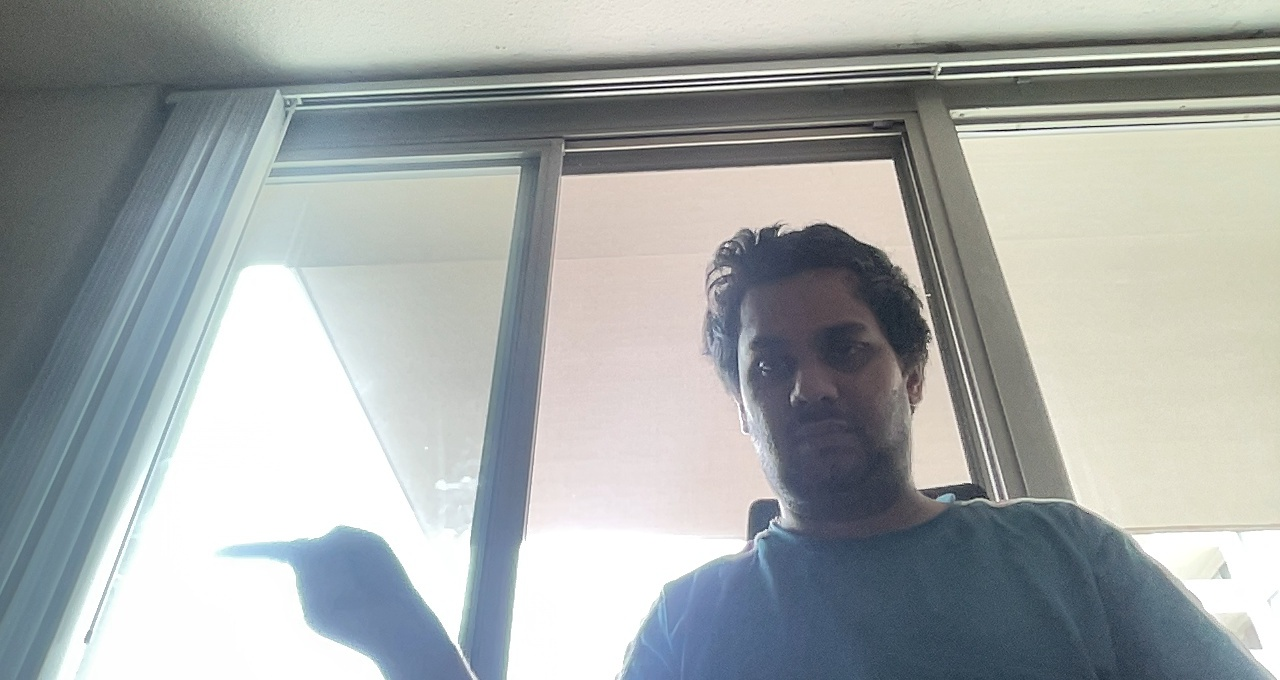fingerright: (210, 518, 434, 654)
